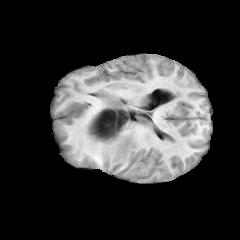glioma: (87, 98, 151, 167)
